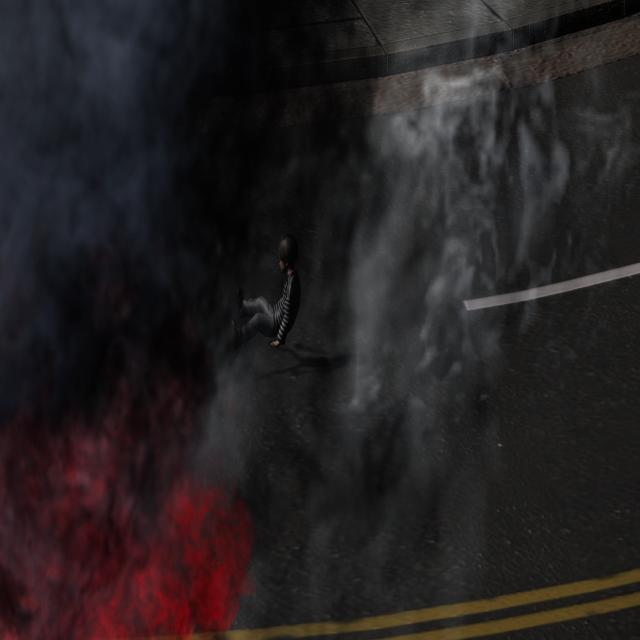Human: (228, 235, 306, 358)
